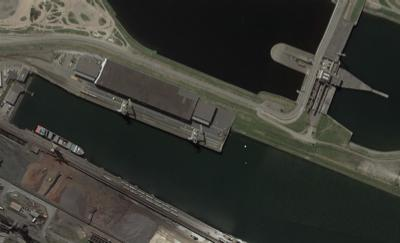Ships: (32, 118, 95, 156)
